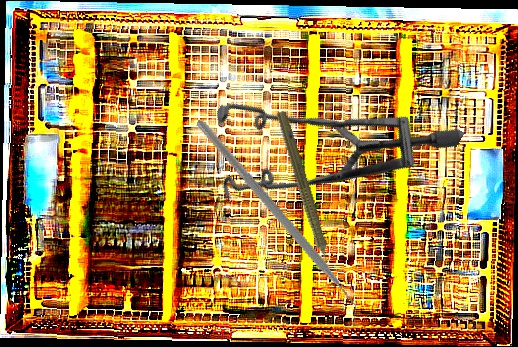Chopper: (152, 119, 400, 328)
Handpiece: (269, 109, 340, 281)
Speculum: (182, 20, 465, 285)
